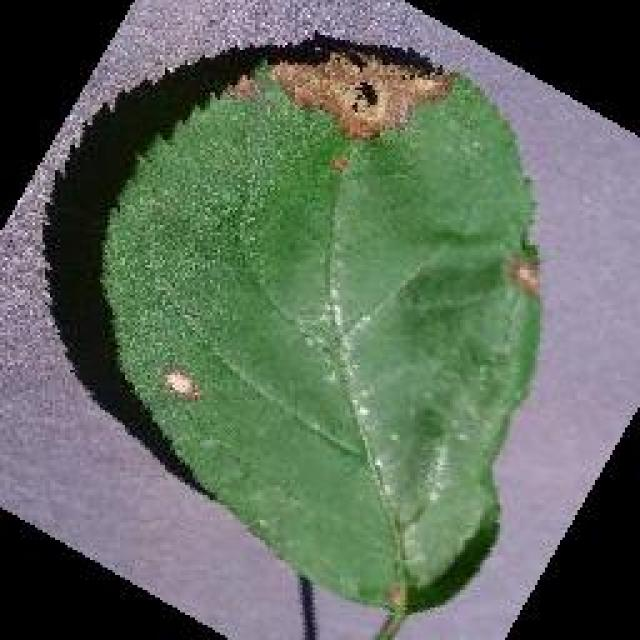apple black rot: (40, 27, 545, 615)
